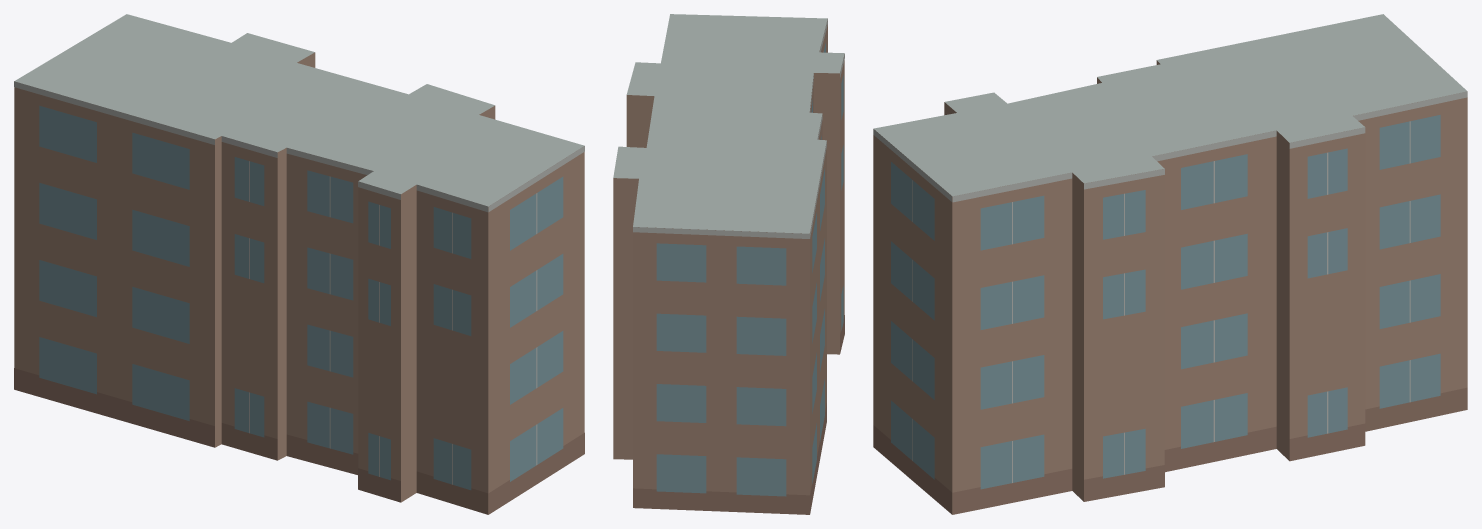
File: survey-upis-32712812.glb
The picture shows the model from 3 angles, left to right: view 1: azimuth 30°, elevation 25°; view 2: azimuth 150°, elevation 25°; view 3: azimuth 270°, elevation 25°; orthographic projection. The views are drawn at different scales.
Visible parts, largest first — view 1: survey-upis-32712812.tmp; view 2: survey-upis-32712812.tmp; view 3: survey-upis-32712812.tmp.
Boxes of the visible parts, box(x1,y1,x2,y2) form: survey-upis-32712812.tmp: box(14, 14, 584, 514); survey-upis-32712812.tmp: box(613, 14, 844, 514); survey-upis-32712812.tmp: box(873, 14, 1467, 514).
Bounding box in the file's own units: 15.73 × 12.8 × 21.66.
